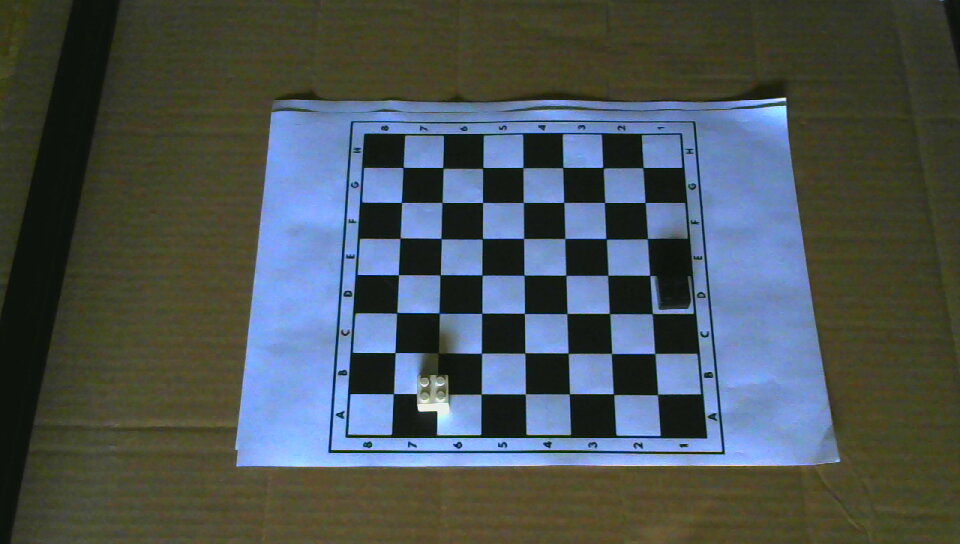bp: (652, 271, 692, 310)
wp: (415, 370, 451, 415)
